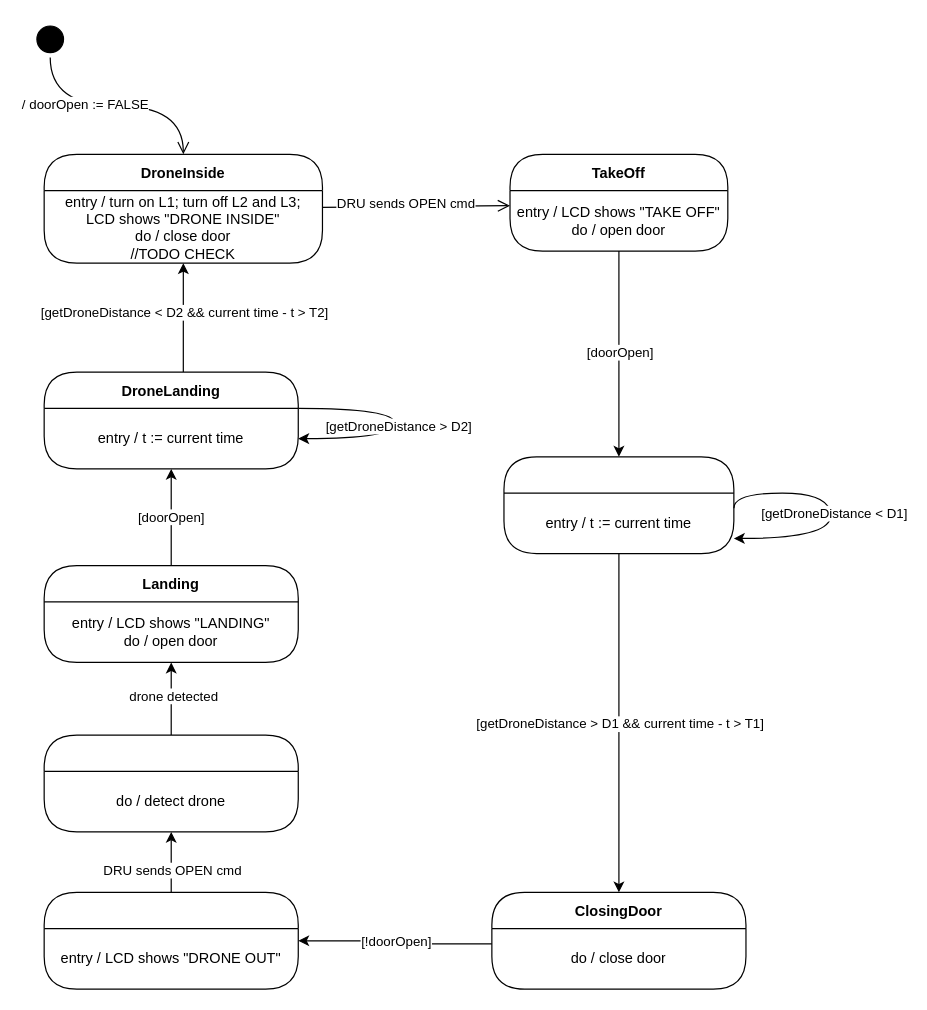
The diagram is 927 pixels wide and 1010 high, and some of its shapes have lost their labels. The box of each missing label's shape, as (x1, y1, x2, y2) in pixels:
DetectingDrone: (43, 734, 298, 832)
DroneOutside: (43, 891, 298, 989)
DroneTakingOff: (503, 456, 734, 554)
